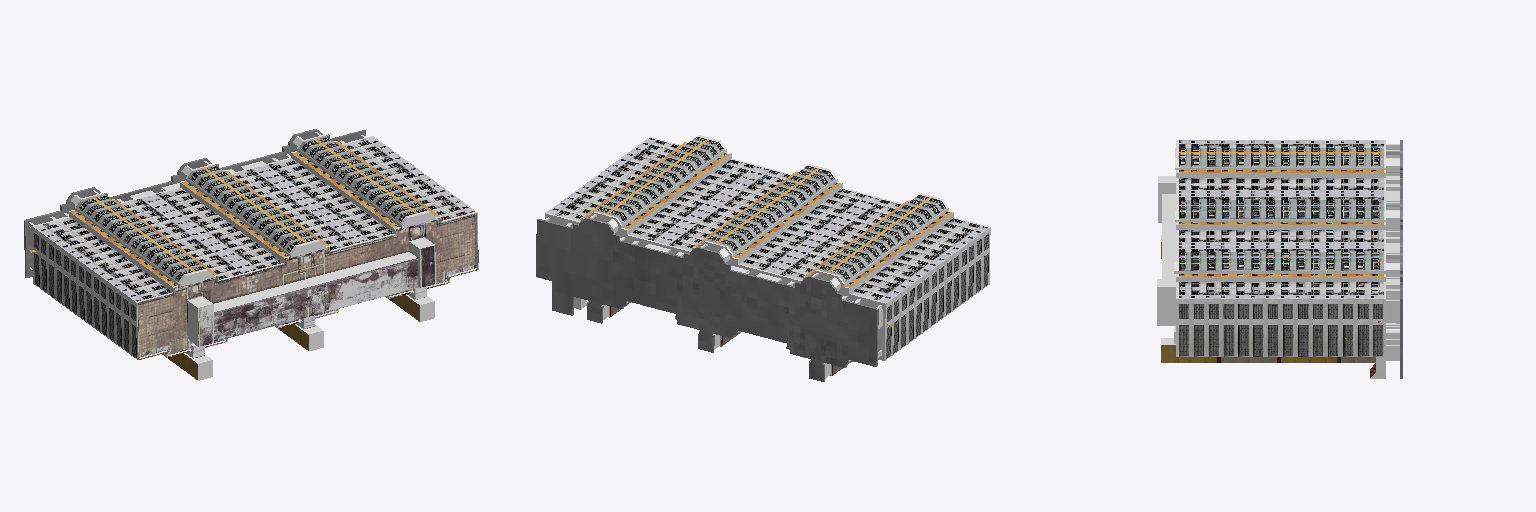
3 renders of one model, left to right at view 1: azimuth 30°, elevation 25°; view 2: azimuth 150°, elevation 25°; view 3: azimuth 270°, elevation 25°, orthographic.
Visible parts, largest first — view 1: polygon.780; view 2: polygon.780; view 3: polygon.780.
Boxes of the visible parts, x1=… form: polygon.780: x1=24, y1=129, x2=478, y2=380; polygon.780: x1=536, y1=135, x2=990, y2=381; polygon.780: x1=1157, y1=140, x2=1402, y2=378.
Size of the model in its own units: 77.67 by 22.39 by 47.03.
1 materials, 1 textured.